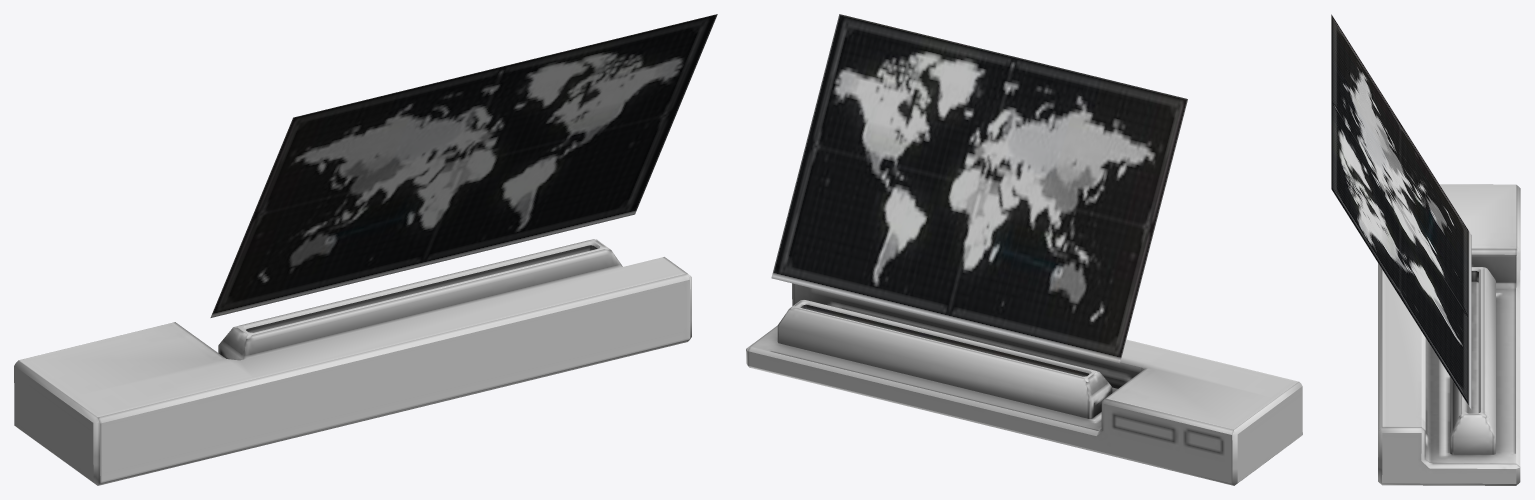
Rendered from SmallObject2.fbx.
The picture shows the model from 3 angles, left to right: view 1: azimuth 30°, elevation 25°; view 2: azimuth 150°, elevation 25°; view 3: azimuth 270°, elevation 25°; orthographic projection. The views are drawn at different scales.
Visible parts, largest first — view 1: 相框004; view 2: 相框004; view 3: 相框004.
Boxes of the visible parts, x1=… form: 相框004: x1=14, y1=14, x2=717, y2=485; 相框004: x1=746, y1=14, x2=1302, y2=485; 相框004: x1=1331, y1=14, x2=1520, y2=485.
Bounding box in the file's own units: 24.36 × 13.64 × 7.89.
